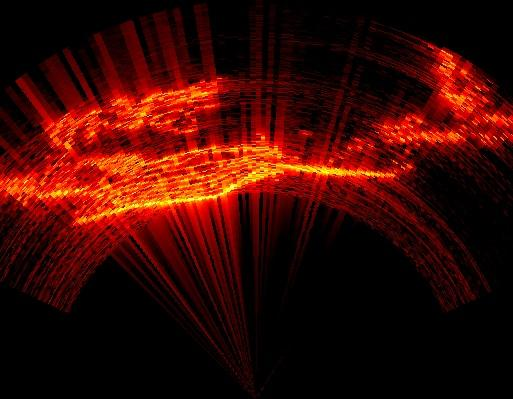shipwreck: (0, 122, 411, 222), (79, 76, 227, 138), (443, 83, 512, 127), (381, 114, 460, 143), (435, 49, 471, 78), (478, 133, 512, 148)
